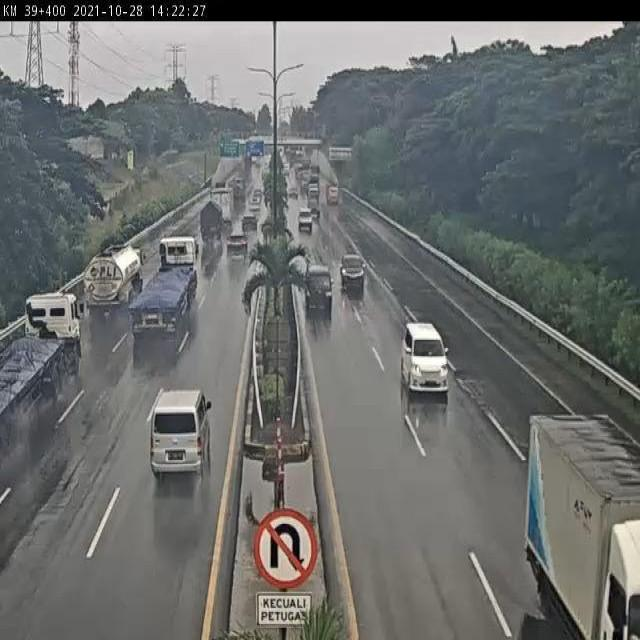car: (151, 390, 214, 478), (399, 320, 454, 401), (303, 260, 335, 315), (339, 249, 367, 288), (226, 234, 249, 258), (298, 208, 314, 232), (240, 214, 259, 234)
small truck: (531, 420, 640, 640)
truck-l-: (85, 243, 143, 308)
truck-s-: (199, 201, 223, 243)
truck-xl-: (0, 292, 83, 435), (133, 233, 198, 347)
